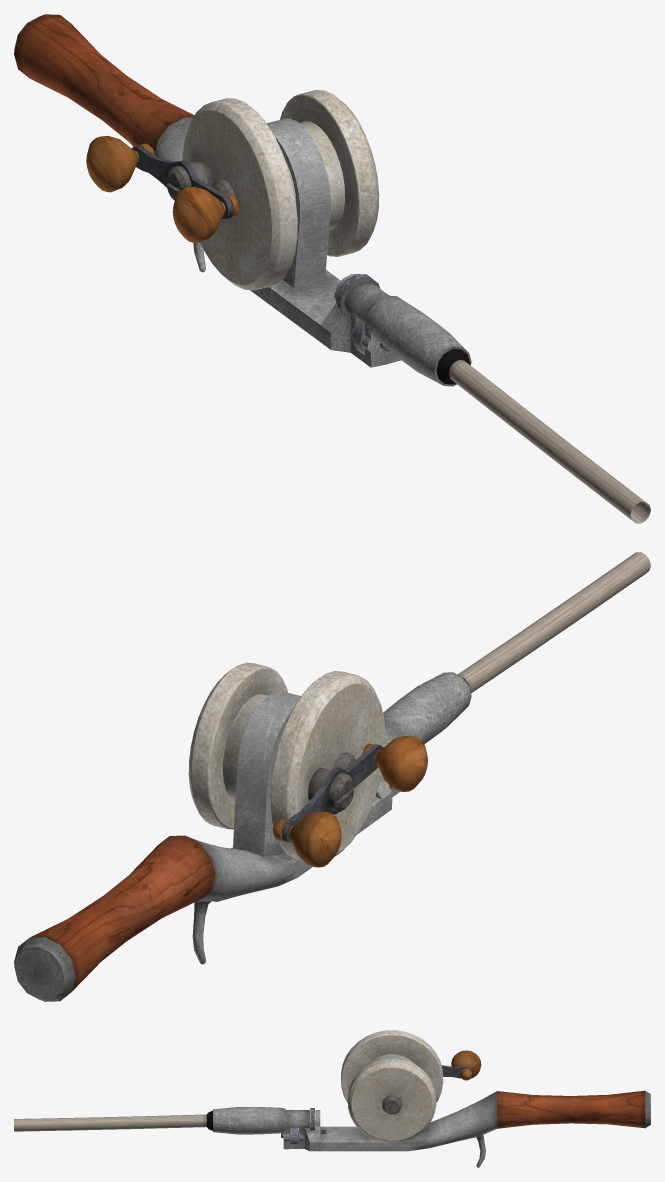
Rendered from fishingRodMobile.fbx.
3 views of the same model, one above another, from view 1: azimuth 30°, elevation 25°; view 2: azimuth 150°, elevation 25°; view 3: azimuth 270°, elevation 25° (orthographic). The views are drawn at different scales.
Parts seen in each view (by area): view 1: fishingRod, rotatingThingy; view 2: fishingRod, rotatingThingy; view 3: fishingRod, rotatingThingy.
Part boxes in pixels (x1,y1,x2,y2): fishingRod: (14, 14, 650, 523); rotatingThingy: (86, 136, 238, 243); fishingRod: (14, 552, 650, 1001); rotatingThingy: (273, 736, 427, 867); fishingRod: (14, 1030, 650, 1167); rotatingThingy: (441, 1050, 481, 1080).
Bounding box in the file's own units: 9.2 × 10.9 × 50.56.
Materials: 1 (1 with a texture image).
